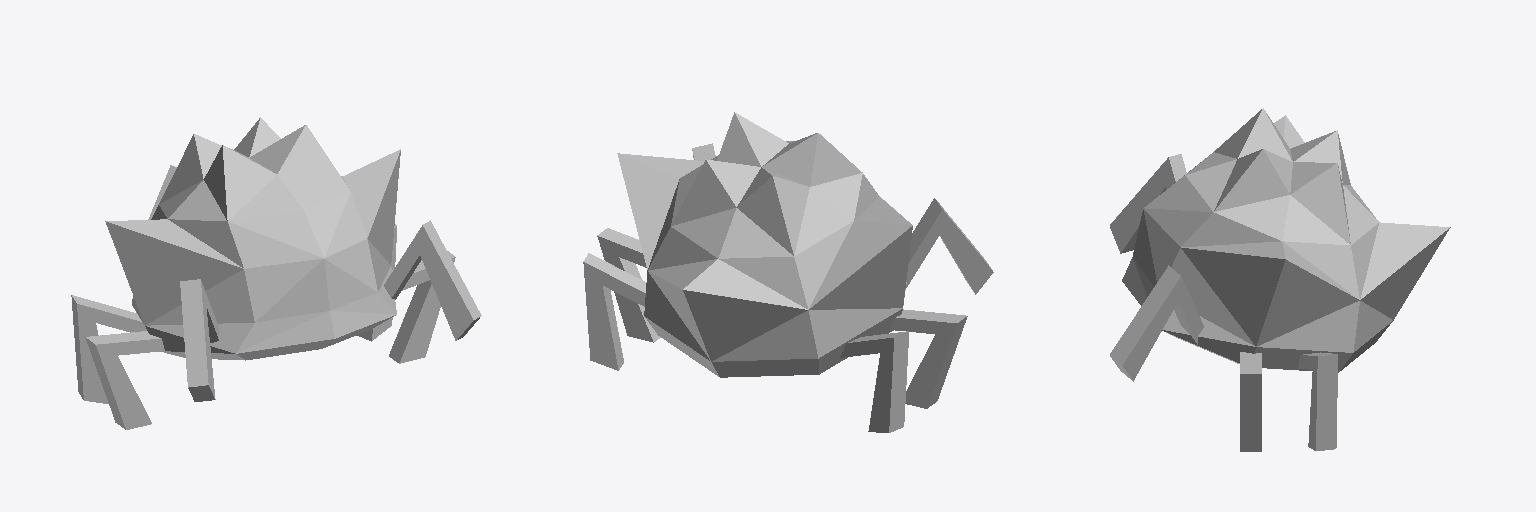
Rendered from neon_tick_5.obj.
3 views of the same model, side by side, from view 1: azimuth 30°, elevation 25°; view 2: azimuth 150°, elevation 25°; view 3: azimuth 270°, elevation 25° (orthographic).
Bounding box in the file's own units: 1.46 × 0.9896 × 1.2.